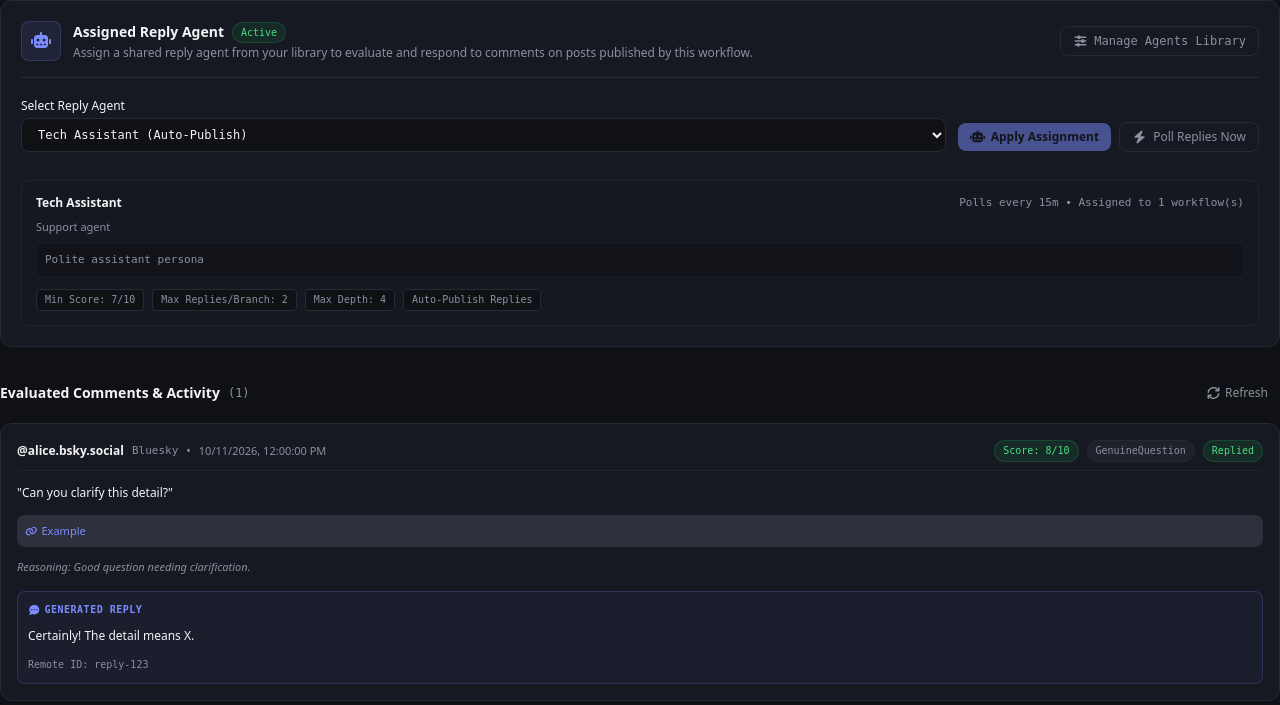
Test: WorkflowReplyAgentTab › assigns selected agent when apply button is clicked
Select "Community Bot (Auto-Publish)" in the dropdown with test id "agent-select-dropdown". click: (483,135)
box: x1=21 y1=118 x2=946 y2=152
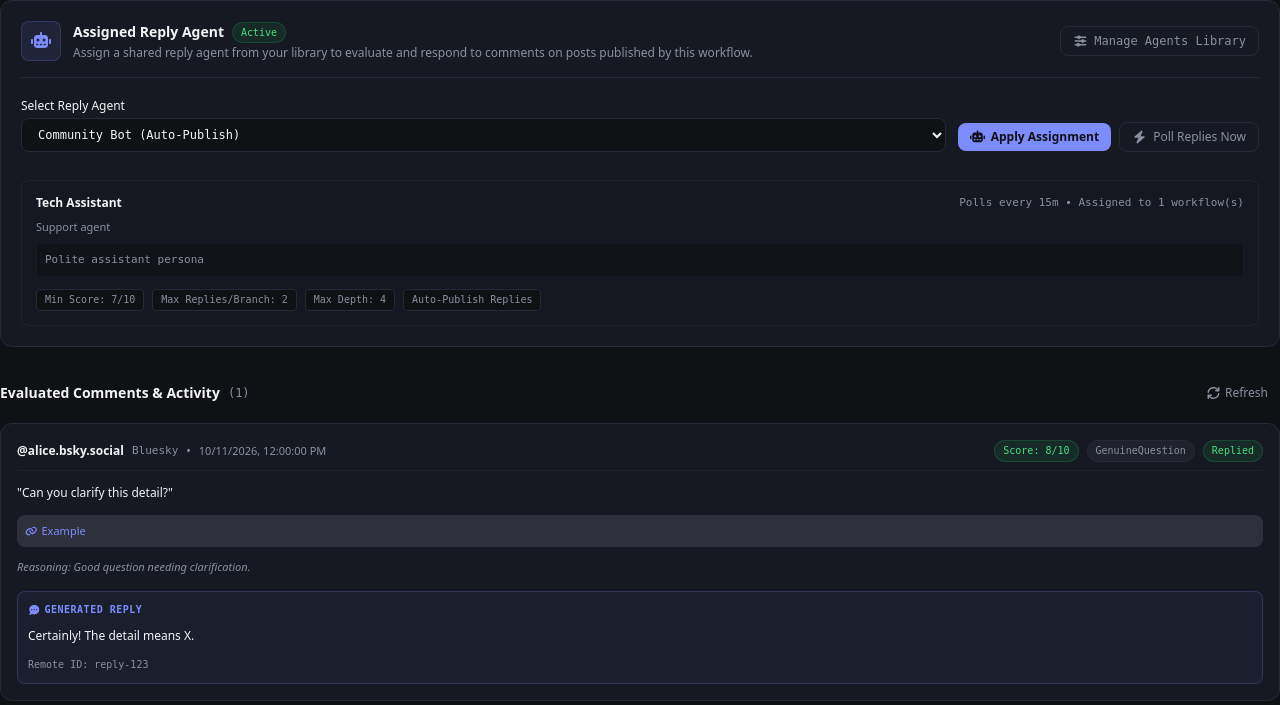
Click the button with test id "save-assignment-button". click: (1034,137)
box: x1=958 y1=123 x2=1111 y2=151
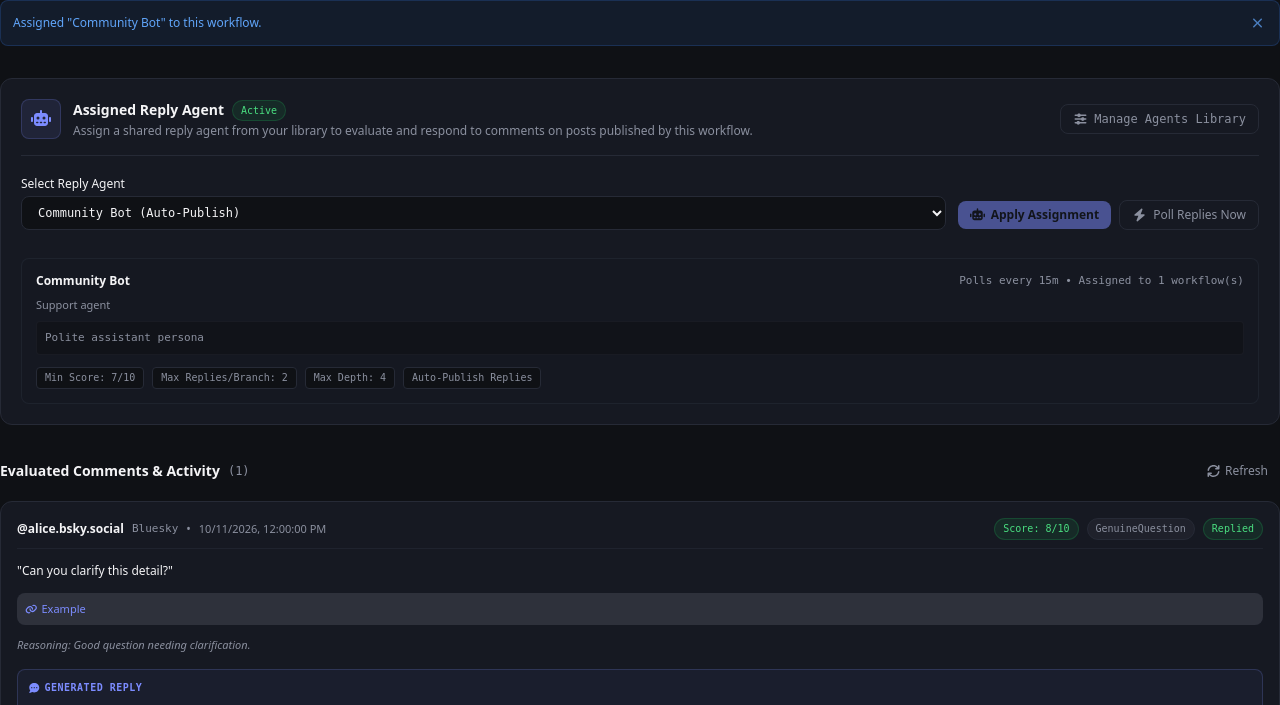
Check: the text "Assigned \"Community Bot\" to this workflow." is shown, box x1=13 y1=14 x2=262 y2=31
